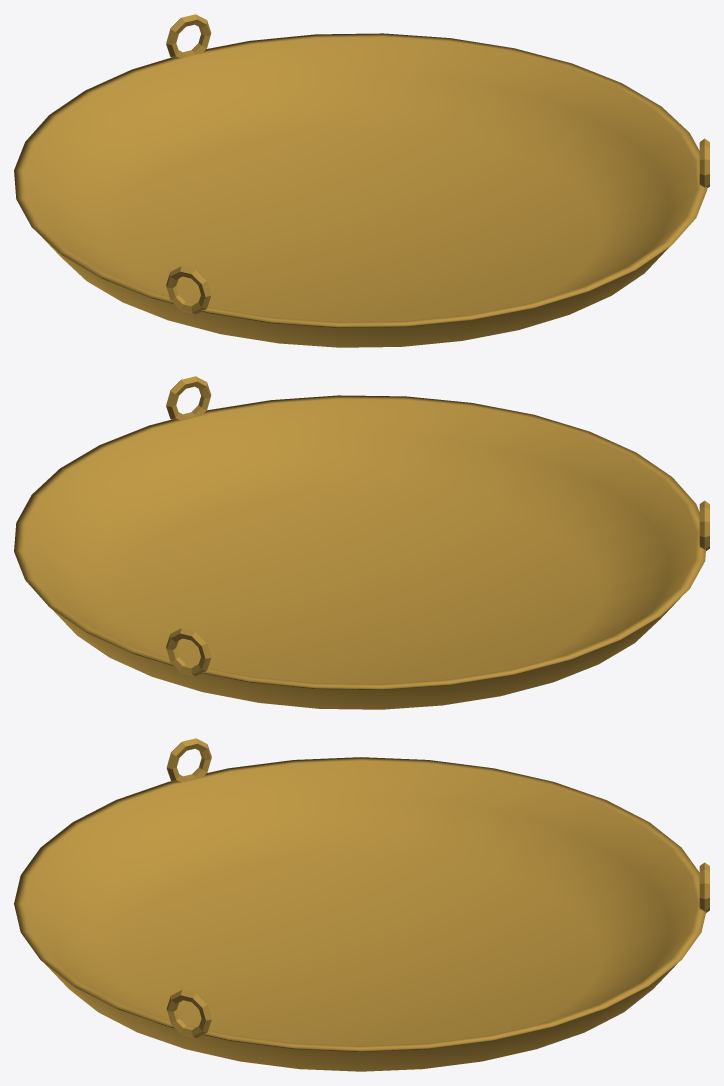
The model's file is GC_ScalePan.fbx.
The picture shows the model from 3 angles, top to bottom: view 1: azimuth 30°, elevation 25°; view 2: azimuth 150°, elevation 25°; view 3: azimuth 270°, elevation 25°; orthographic projection.
Visible parts, largest first — view 1: GC_Prop_ScalePan_Dish, GC_Prop_ScalePan_Lugs; view 2: GC_Prop_ScalePan_Dish, GC_Prop_ScalePan_Lugs; view 3: GC_Prop_ScalePan_Dish, GC_Prop_ScalePan_Lugs.
Boxes of the visible parts, box(x1,y1,x2,y2) form: GC_Prop_ScalePan_Dish: box(14, 33, 707, 347); GC_Prop_ScalePan_Lugs: box(166, 14, 709, 314); GC_Prop_ScalePan_Dish: box(14, 395, 705, 709); GC_Prop_ScalePan_Lugs: box(166, 376, 709, 676); GC_Prop_ScalePan_Dish: box(14, 757, 706, 1071); GC_Prop_ScalePan_Lugs: box(166, 738, 709, 1037).
Bounding box in the file's own units: 1010 × 161 × 1013.
